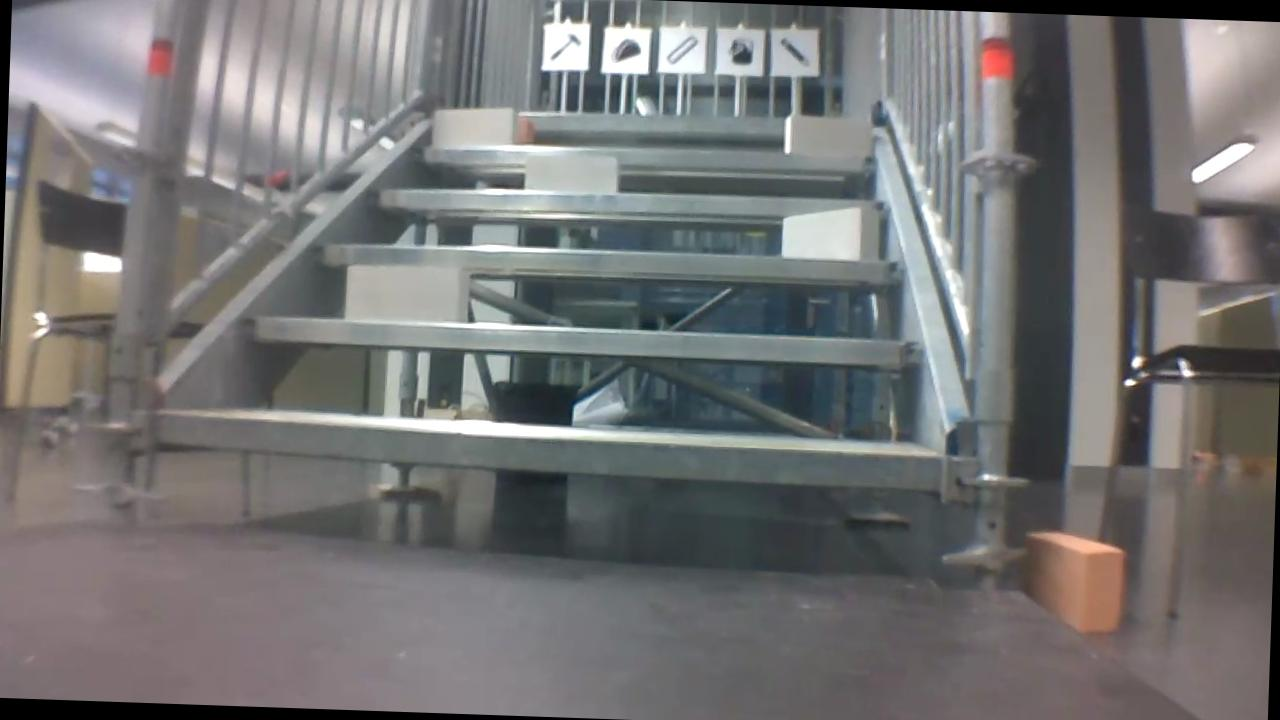brick: (344, 263, 469, 323), (781, 206, 878, 259), (524, 155, 617, 191), (784, 114, 869, 153), (433, 106, 515, 146), (518, 123, 536, 142)
bucket: (725, 31, 759, 69)
edge: (153, 413, 945, 491), (235, 314, 919, 364), (313, 240, 906, 282), (367, 182, 890, 219), (412, 139, 877, 173), (423, 103, 872, 135)
hammer: (547, 30, 585, 62)
pencil: (775, 34, 814, 66)
ruler: (660, 31, 700, 65)
steps: (143, 85, 964, 500)
taco: (606, 32, 648, 70)
